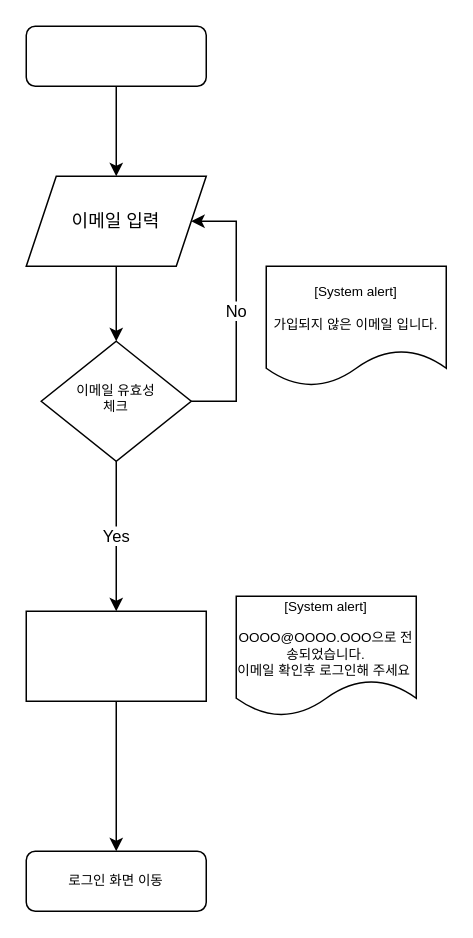
Some shapes in this 473 by 938 pixel diagram are drawn without their labels. The centre of each missing label's shape, as x and y in pixels:
메일 전송 성공: (x=115, y=655)
비밀번호 찾기: (x=115, y=55)
